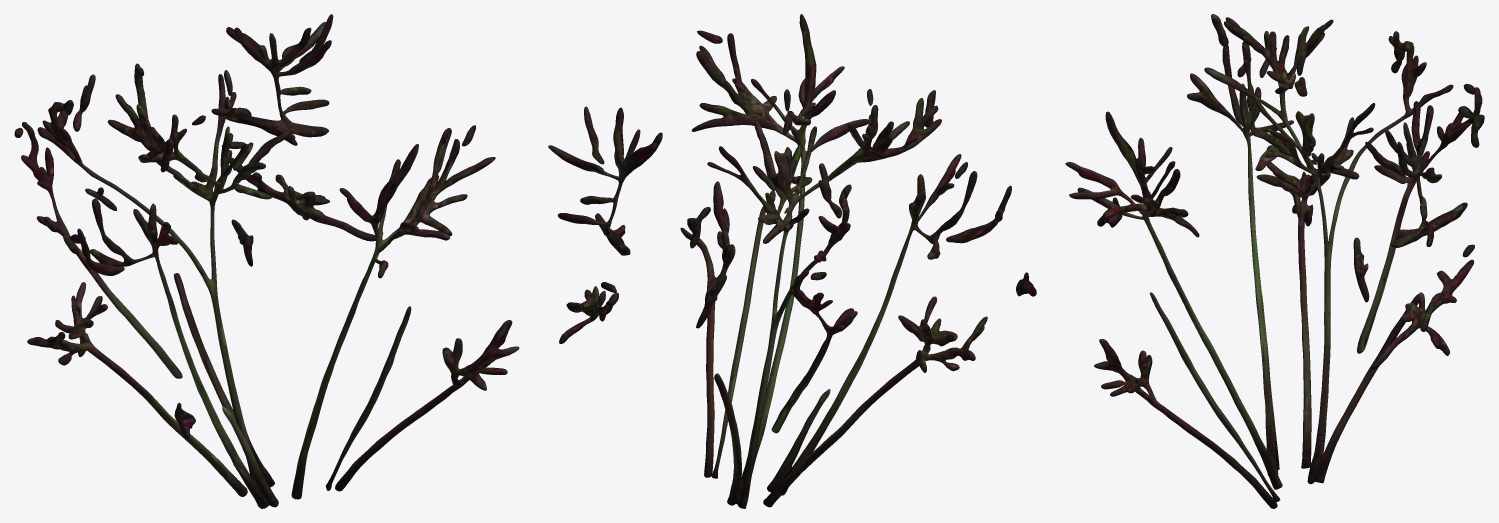
The model's file is herb0054.gltf.
3 renders of one model, left to right at view 1: azimuth 30°, elevation 25°; view 2: azimuth 150°, elevation 25°; view 3: azimuth 270°, elevation 25°, orthographic. The views are drawn at different scales.
Visible parts, largest first — view 1: Mesh_0; view 2: Mesh_0; view 3: Mesh_0.
Part boxes in pixels (box(x1,y1,x2,y2)): Mesh_0: box(14, 14, 519, 508); Mesh_0: box(548, 14, 1036, 508); Mesh_0: box(1065, 14, 1484, 508).
Size of the model in its own units: 1.92 by 2 by 1.84.
Materials: 1 (1 with a texture image).
